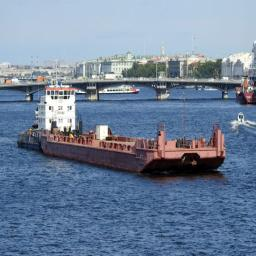tugboat: (17, 81, 86, 155)
